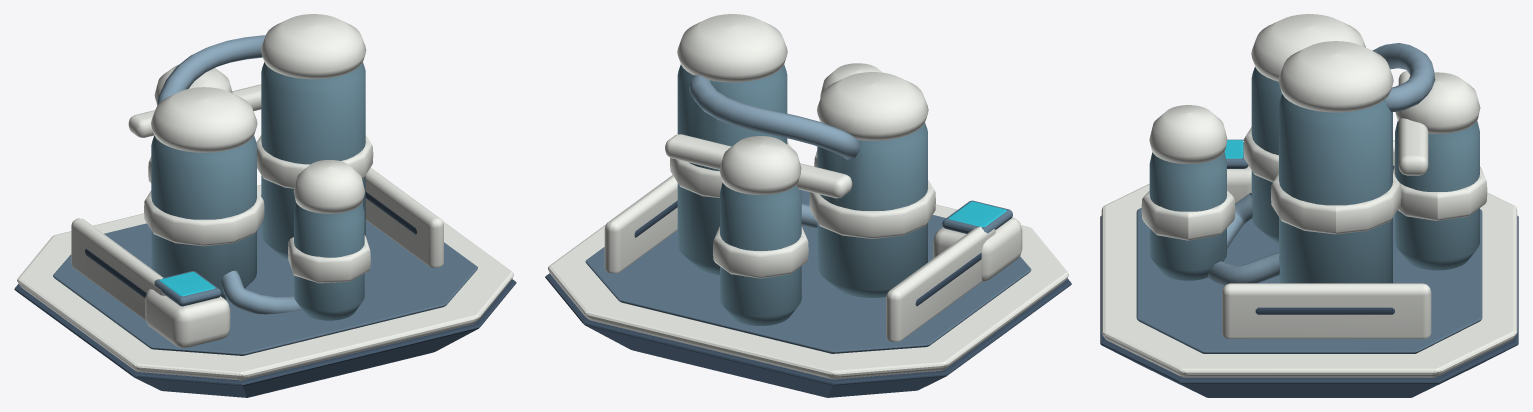
File: heavy_element_refinery_lv5.glb
3 renders of one model, left to right at view 1: azimuth 30°, elevation 25°; view 2: azimuth 150°, elevation 25°; view 3: azimuth 270°, elevation 25°, orthographic. The views are drawn at different scales.
Visible parts, largest first — view 1: Structure; view 2: Structure; view 3: Structure.
Boxes of the visible parts, <box> form: Structure: <box>14,14,516,397</box>; Structure: <box>545,14,1071,397</box>; Structure: <box>1100,14,1518,397</box>.
Size of the model in its own units: 7.63 by 5.2 by 6.6.
